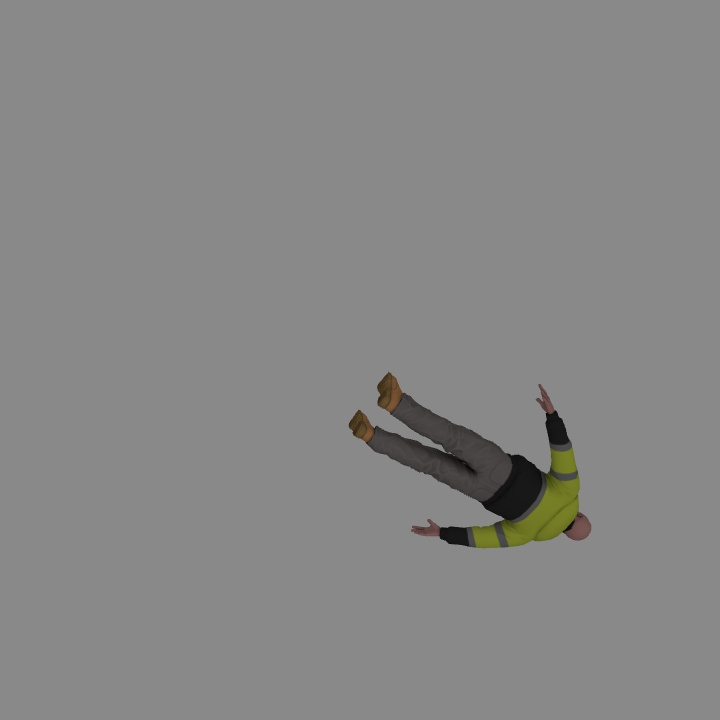victim: (349, 374, 594, 550)
